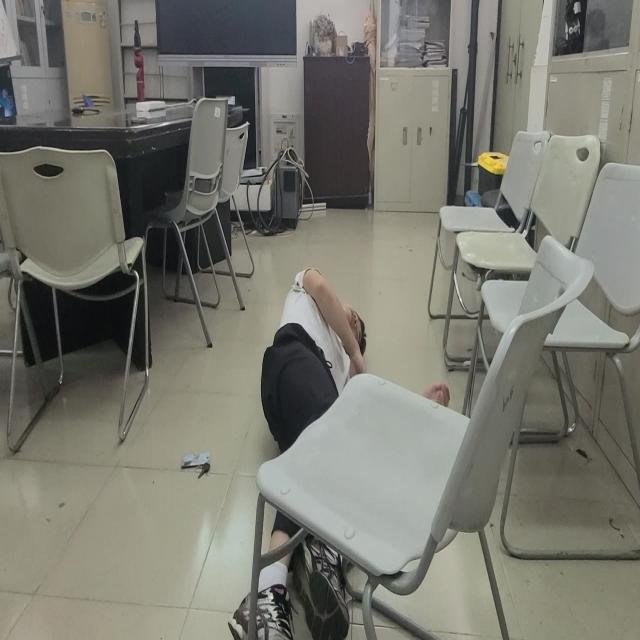fall: (228, 261, 452, 640)
